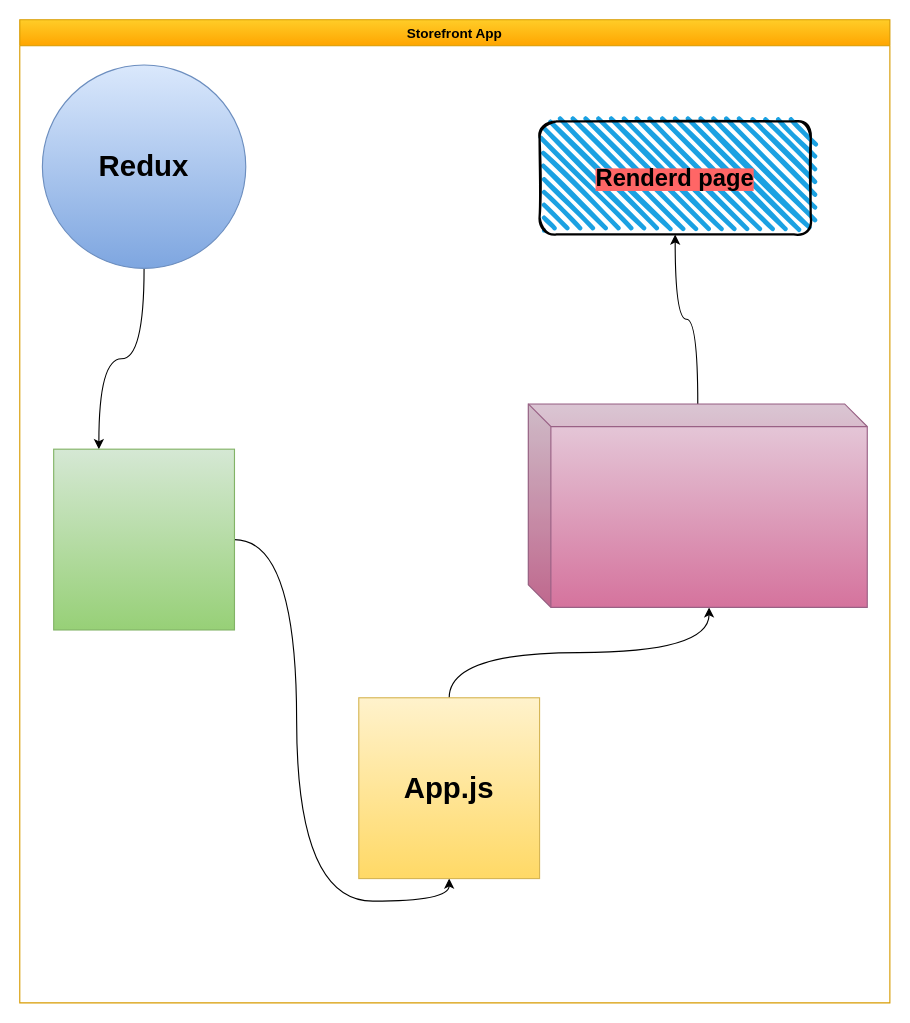
Image size: 910x1023. Some labels were removed from this diagram. Here are the shapes that lost their labels. From the top down, the box of each, then its label:
(527, 403, 867, 607): Components
(53, 448, 234, 630): index.js
